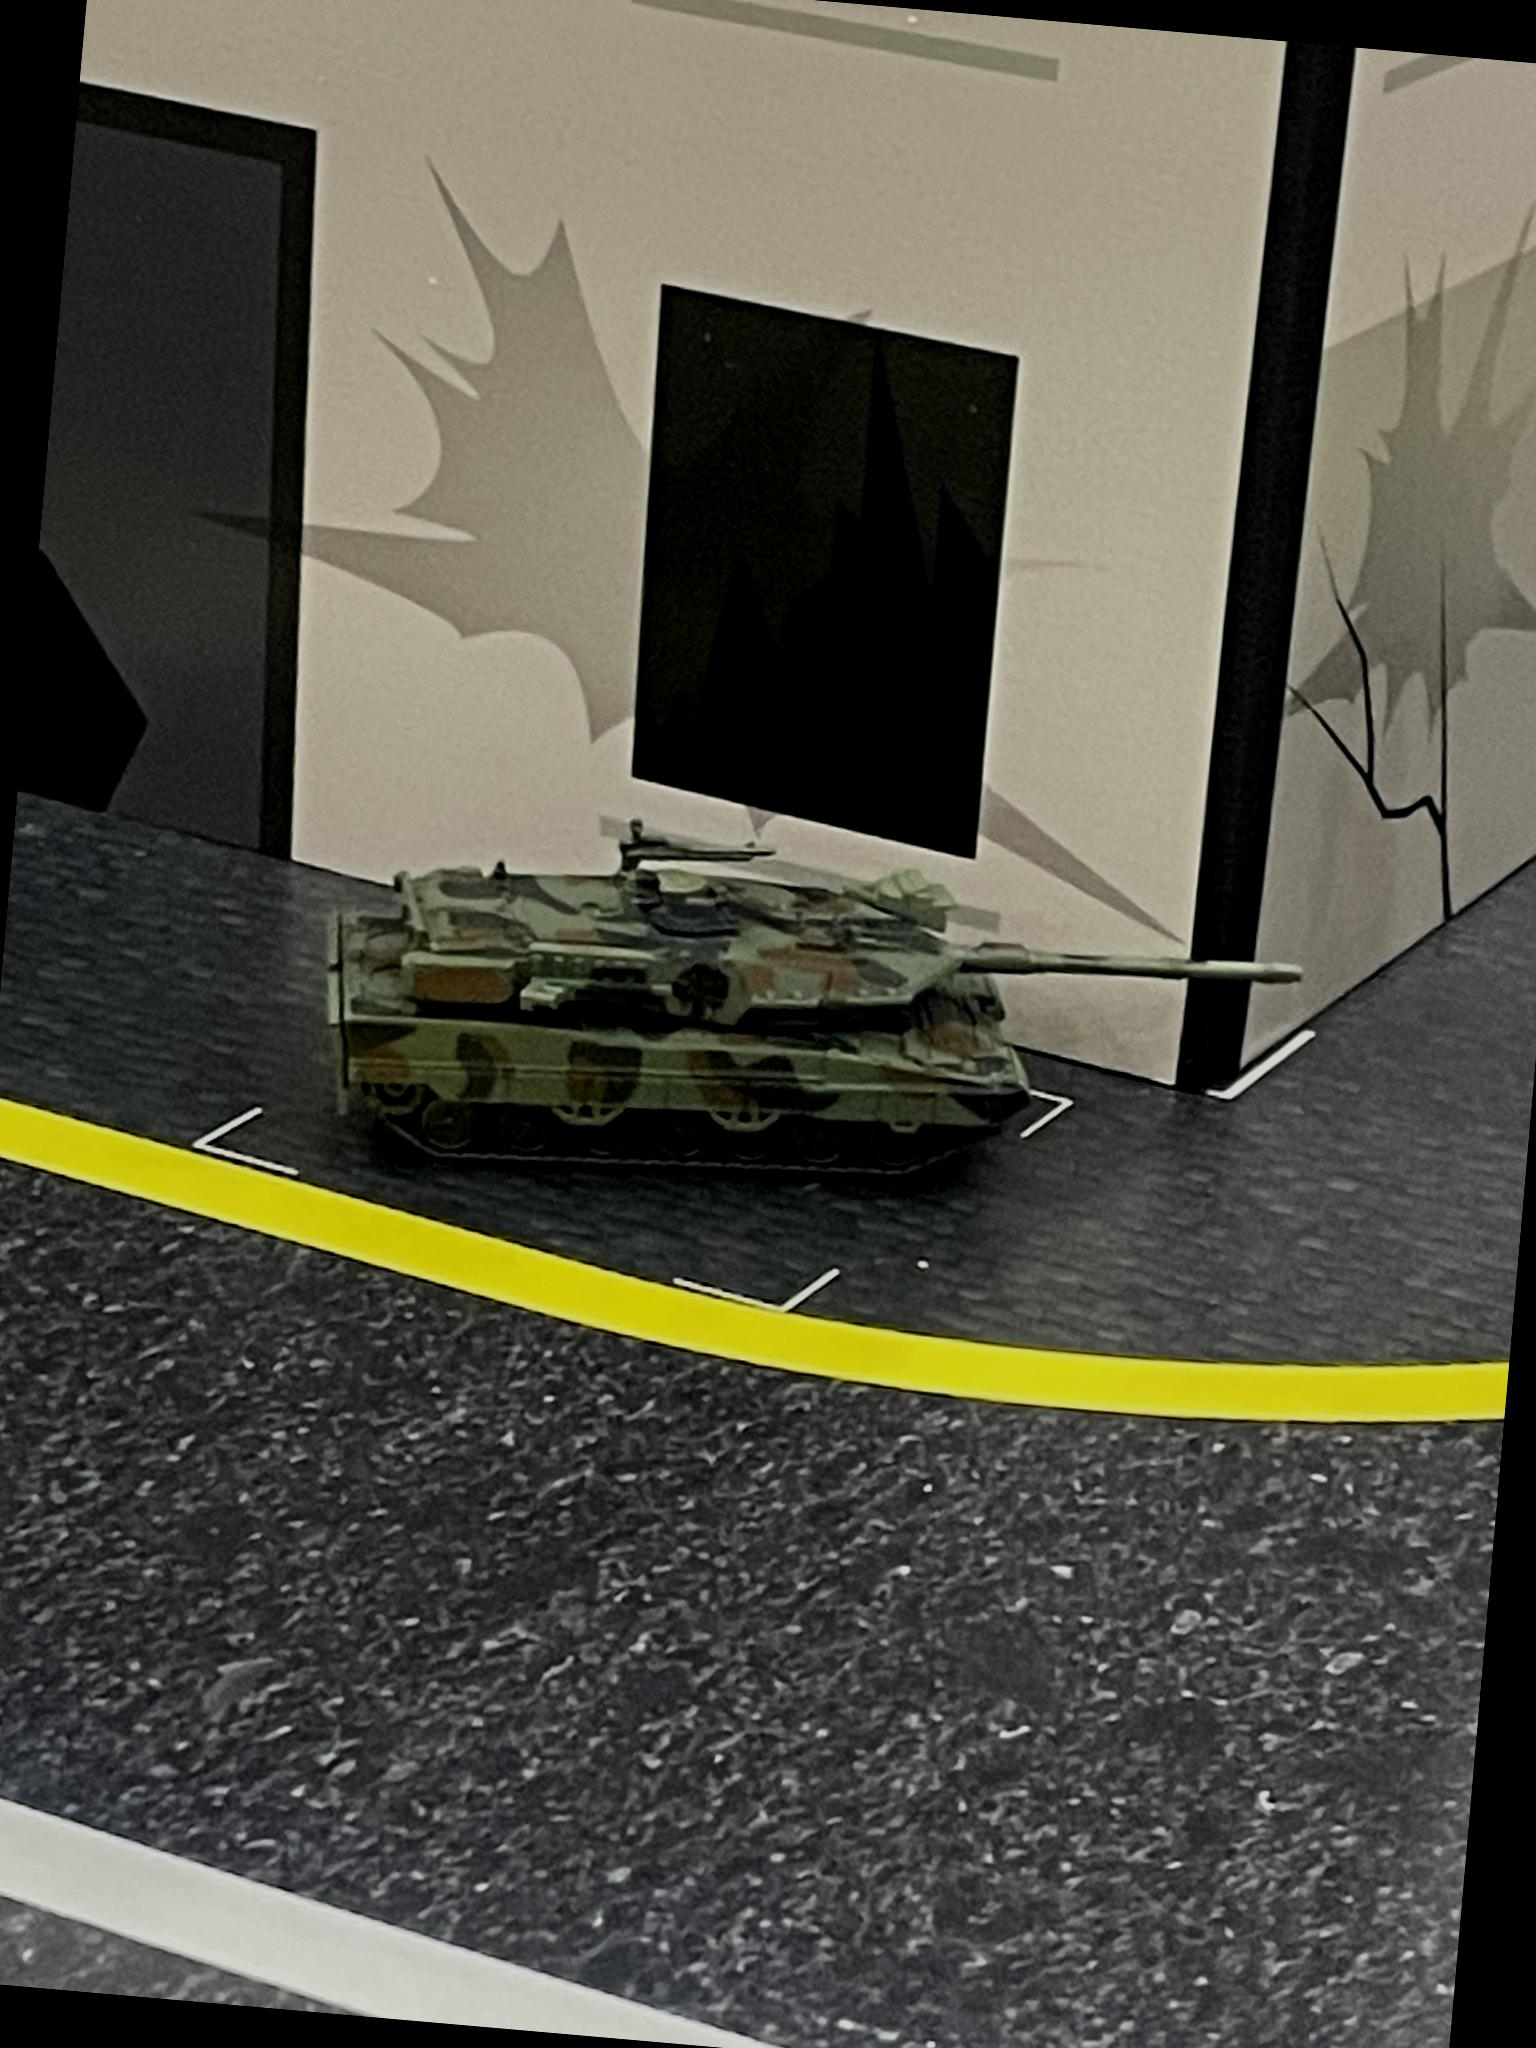Tank: (297, 785, 1323, 1206)
